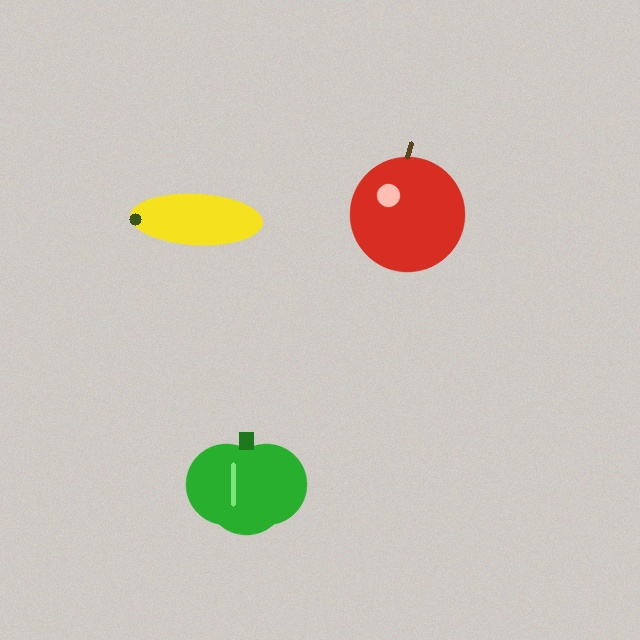Fresh apple: (350, 143, 464, 271)
Fresh banana: (127, 188, 265, 250)
Fresh bell pepper: (186, 432, 306, 534)
